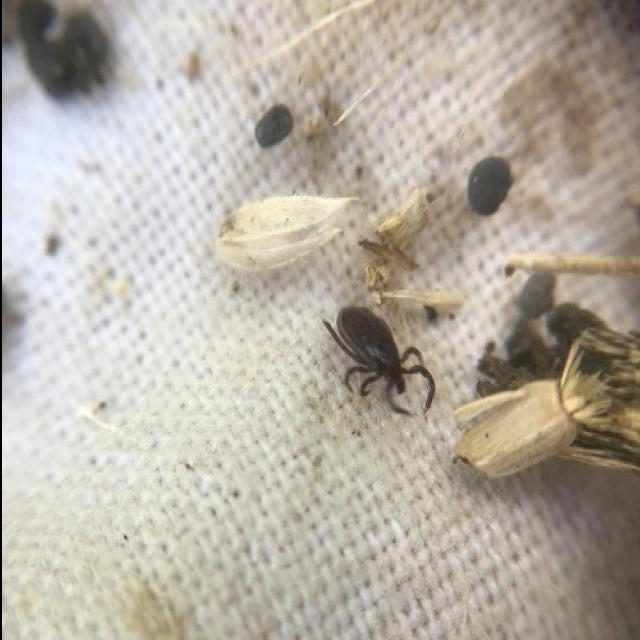Ixodes Ricinus-M: (320, 307, 434, 418)
